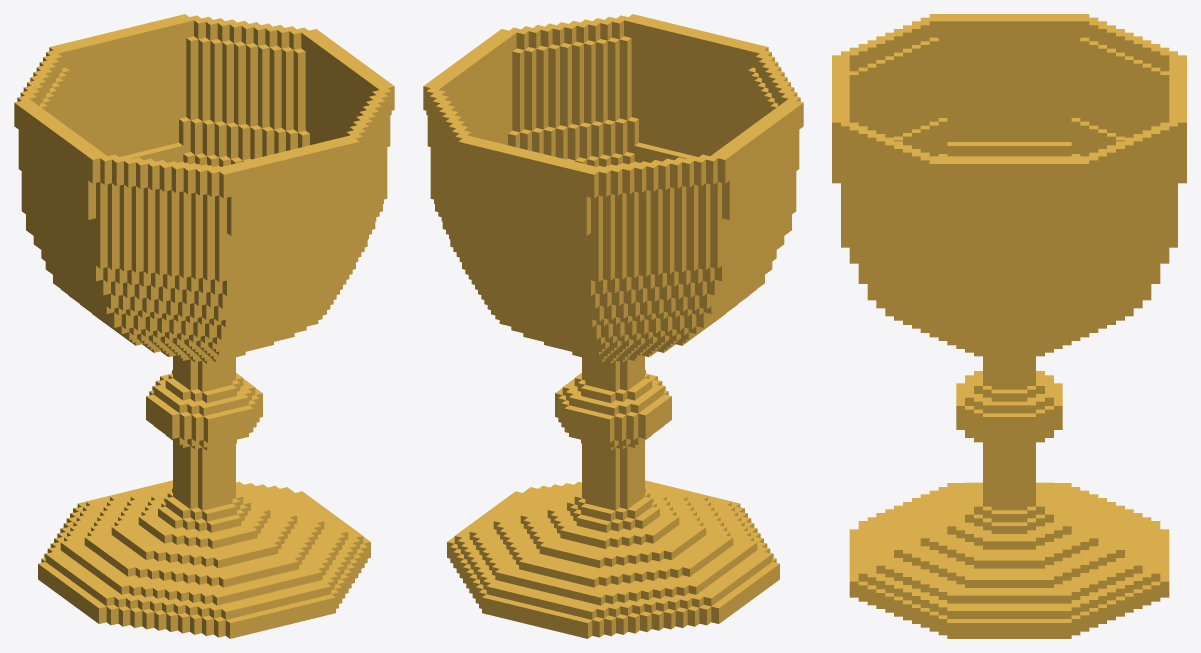
The model's file is chalice.glb.
3 renders of one model, left to right at view 1: azimuth 30°, elevation 25°; view 2: azimuth 150°, elevation 25°; view 3: azimuth 270°, elevation 25°, orthographic.
Parts seen in each view (by area): view 1: chalice:compound; view 2: chalice:compound; view 3: chalice:compound.
Part boxes in pixels (x1,y1,x2,y2): chalice:compound: (14, 14, 394, 638); chalice:compound: (423, 14, 803, 638); chalice:compound: (832, 14, 1186, 638).
Size of the model in its own units: 0.08 by 0.12 by 0.08.
